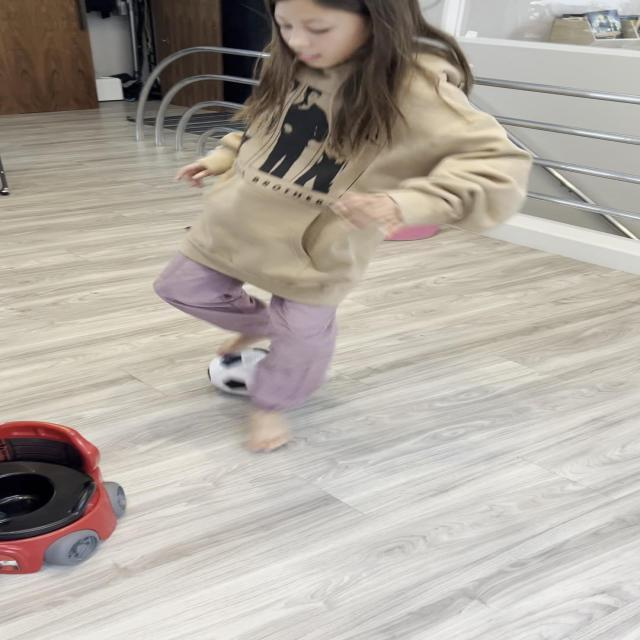Soccer Ball: (205, 346, 287, 396)
